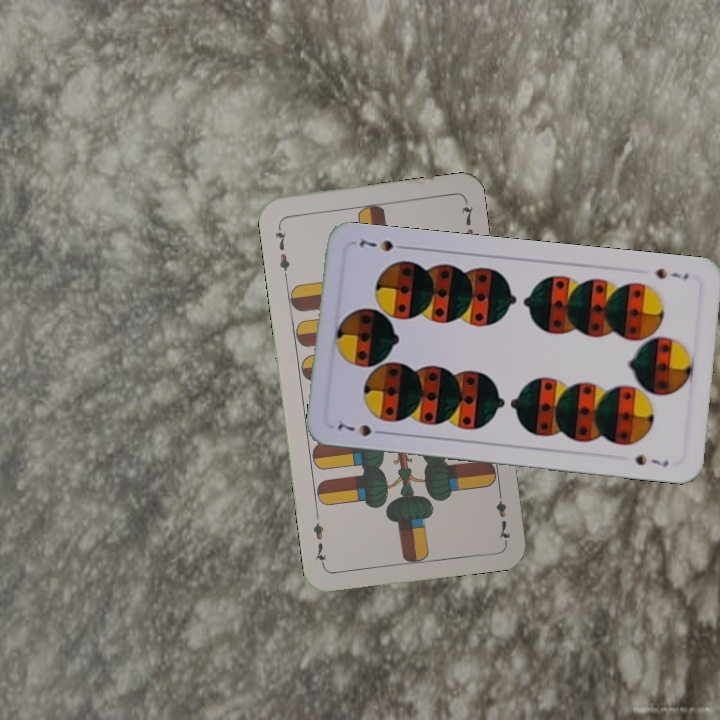E7: (271, 221, 293, 280), (492, 485, 513, 544)
S7: (330, 418, 389, 439), (651, 264, 691, 282)
